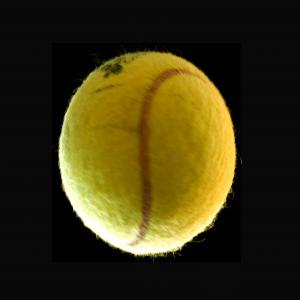TennisBall: (53, 44, 243, 264)
